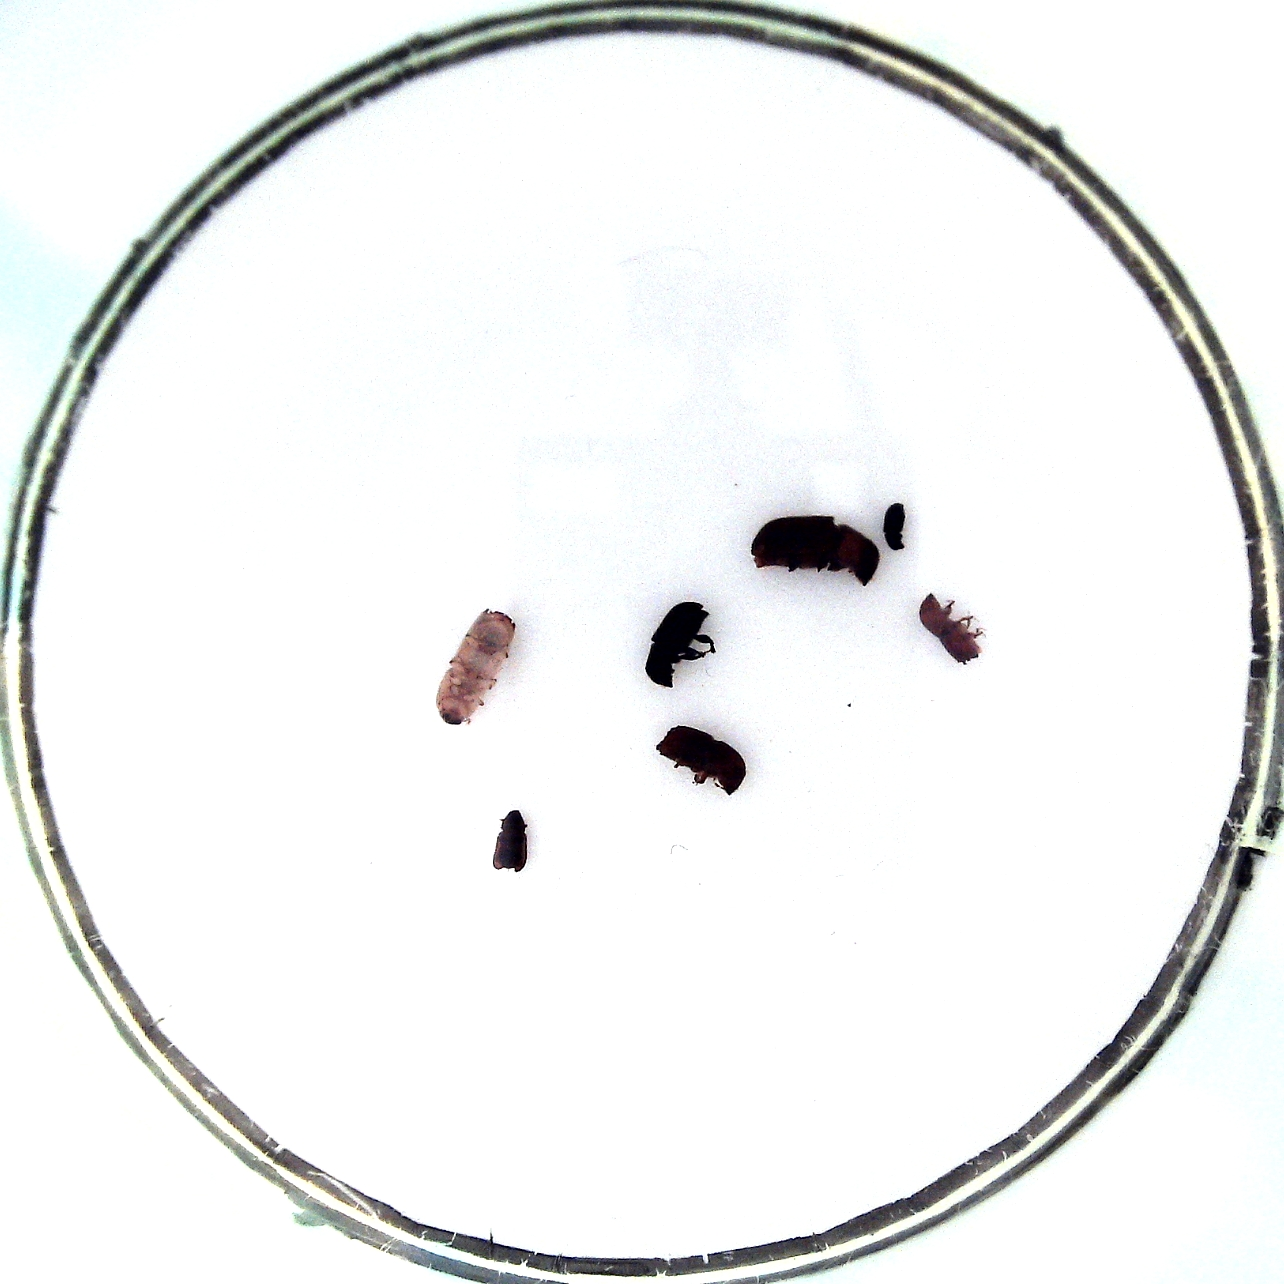Boerner: (436, 607, 516, 725)
Leconte: (751, 516, 881, 586)
acuminatus: (883, 502, 904, 551)
armandi: (646, 601, 711, 688)
coleoptera: (919, 593, 981, 664), (493, 810, 527, 872)
linnaeus: (656, 725, 745, 795)
